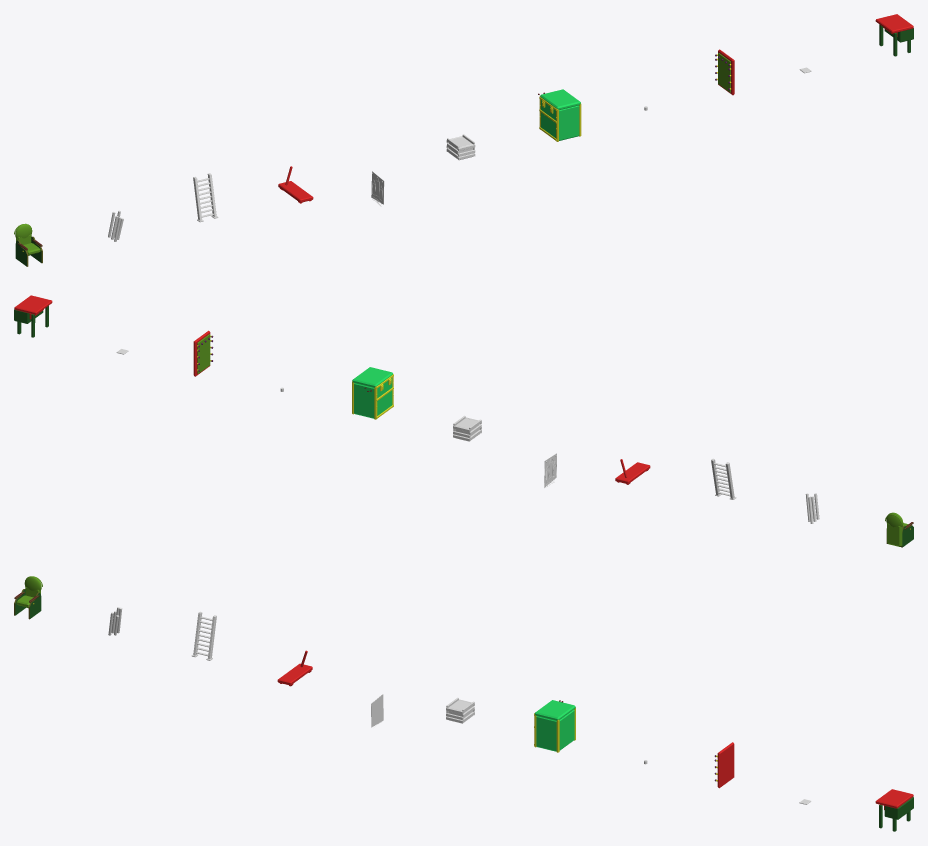
Rendered from 08_Backstage_low.fbx.
3 views of the same model, one above another, from view 1: azimuth 30°, elevation 25°; view 2: azimuth 150°, elevation 25°; view 3: azimuth 330°, elevation 25° (orthographic).
Visible parts, largest first — view 1: TravelChest_low, VanityTable_low, AuditoriumSeat_low, VanityMirror_low, ScaffoldLadder_low, ScrollCrate_low; view 2: TravelChest_low, VanityTable_low, AuditoriumSeat_low, VanityMirror_low, ScaffoldLadder_low, ScrollCrate_low; view 3: TravelChest_low, VanityTable_low, AuditoriumSeat_low, VanityMirror_low, ScaffoldLadder_low, ScrollCrate_low.
Part boxes in pixels (box(x1,y1,x2,y2)): TravelChest_low: box(538, 89, 581, 141); VanityTable_low: box(875, 14, 913, 56); AuditoriumSeat_low: box(14, 223, 42, 266); VanityMirror_low: box(715, 49, 734, 95); ScaffoldLadder_low: box(193, 173, 218, 222); ScrollCrate_low: box(446, 134, 475, 160); TravelChest_low: box(352, 367, 393, 419); VanityTable_low: box(14, 295, 52, 337); AuditoriumSeat_low: box(885, 512, 913, 547); VanityMirror_low: box(193, 330, 213, 376); ScaffoldLadder_low: box(711, 458, 736, 499); ScrollCrate_low: box(453, 415, 481, 441); TravelChest_low: box(534, 700, 575, 752); VanityTable_low: box(875, 789, 913, 831); AuditoriumSeat_low: box(14, 576, 42, 619); VanityMirror_low: box(714, 742, 734, 788); ScaffoldLadder_low: box(191, 611, 216, 660); ScrollCrate_low: box(446, 697, 474, 723).
Size of the model in its own units: 4053 by 179 by 297.
